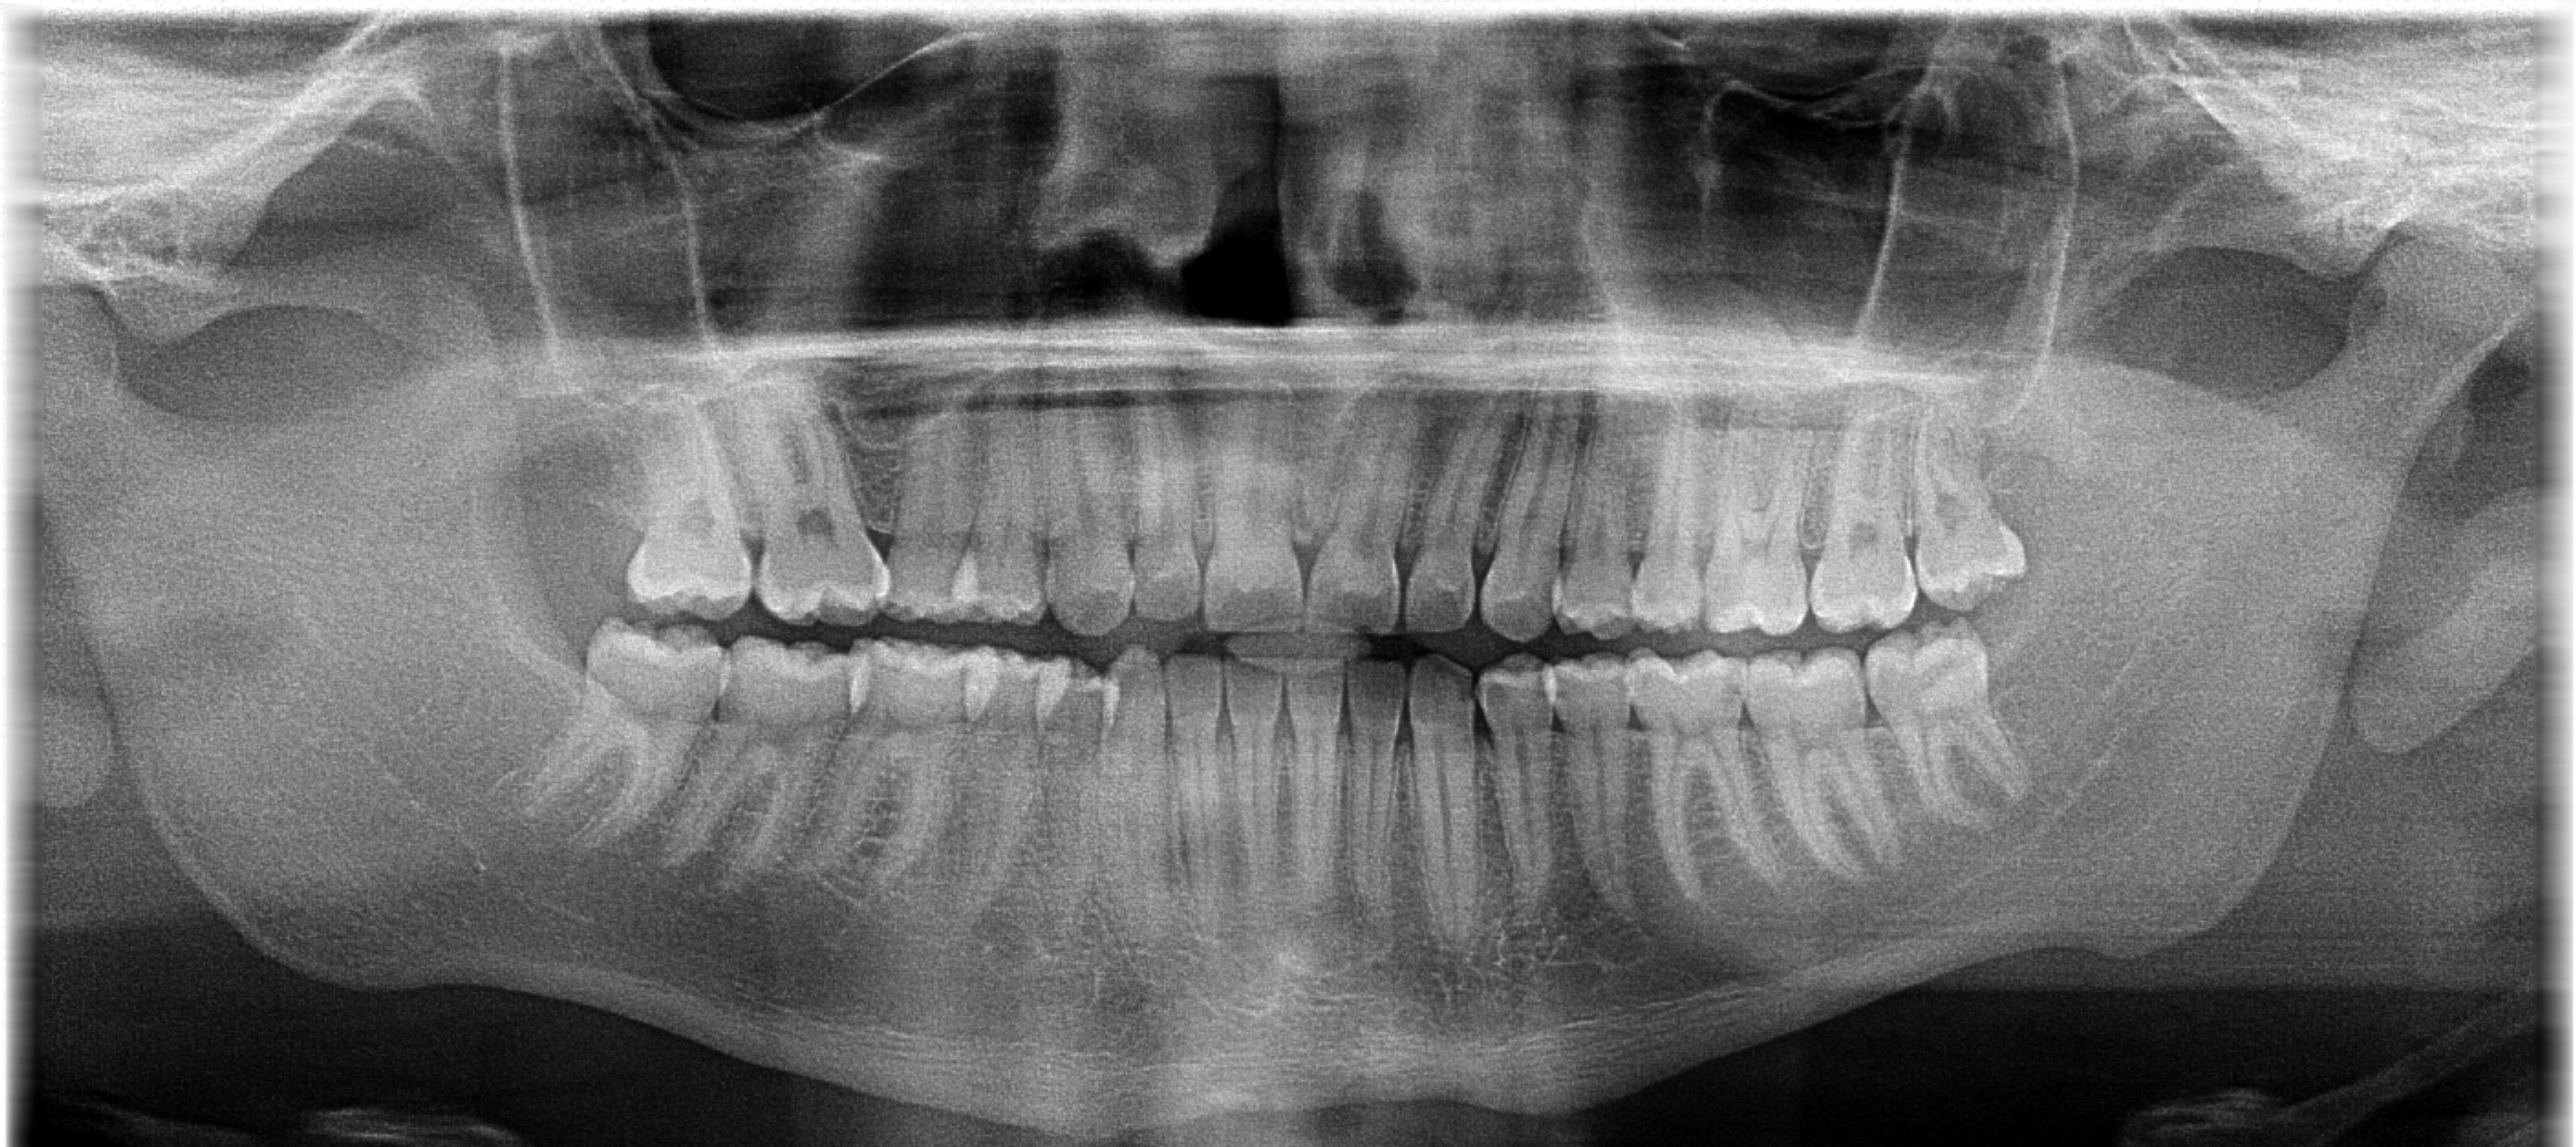apinamiento: (844, 644, 1166, 758)
cordal: (513, 608, 759, 858), (1850, 393, 2096, 643), (1822, 601, 2068, 850), (586, 394, 774, 628)
